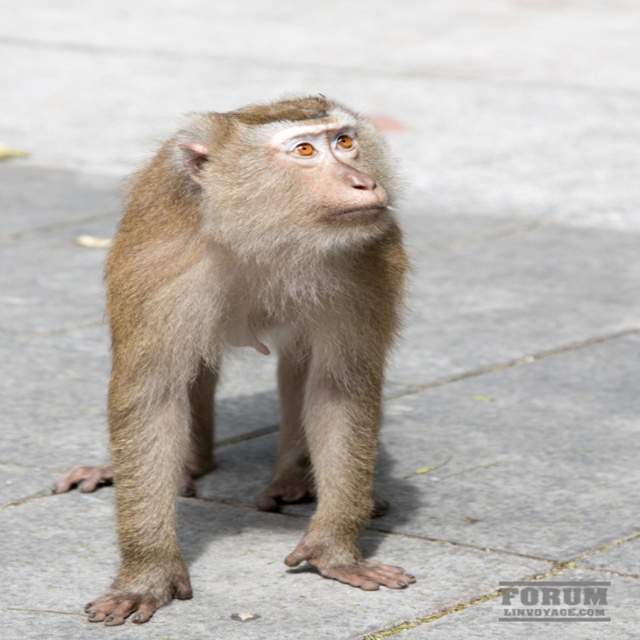Monkey: (55, 92, 419, 623)
